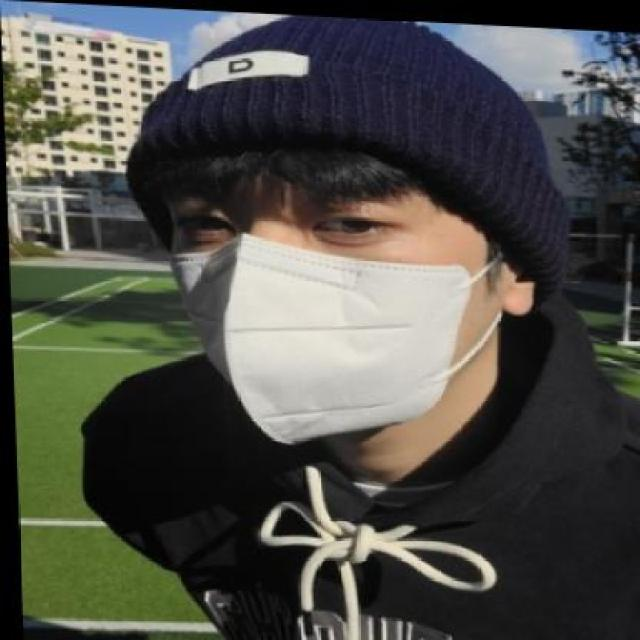hat: (126, 14, 571, 300)
